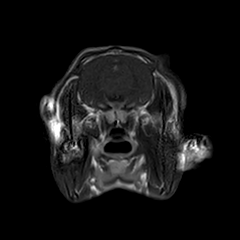Brain: (67, 20, 166, 118)
